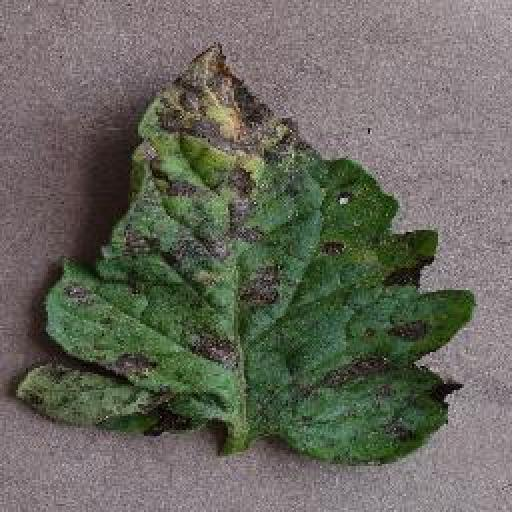Early Blight: (19, 42, 468, 470)
